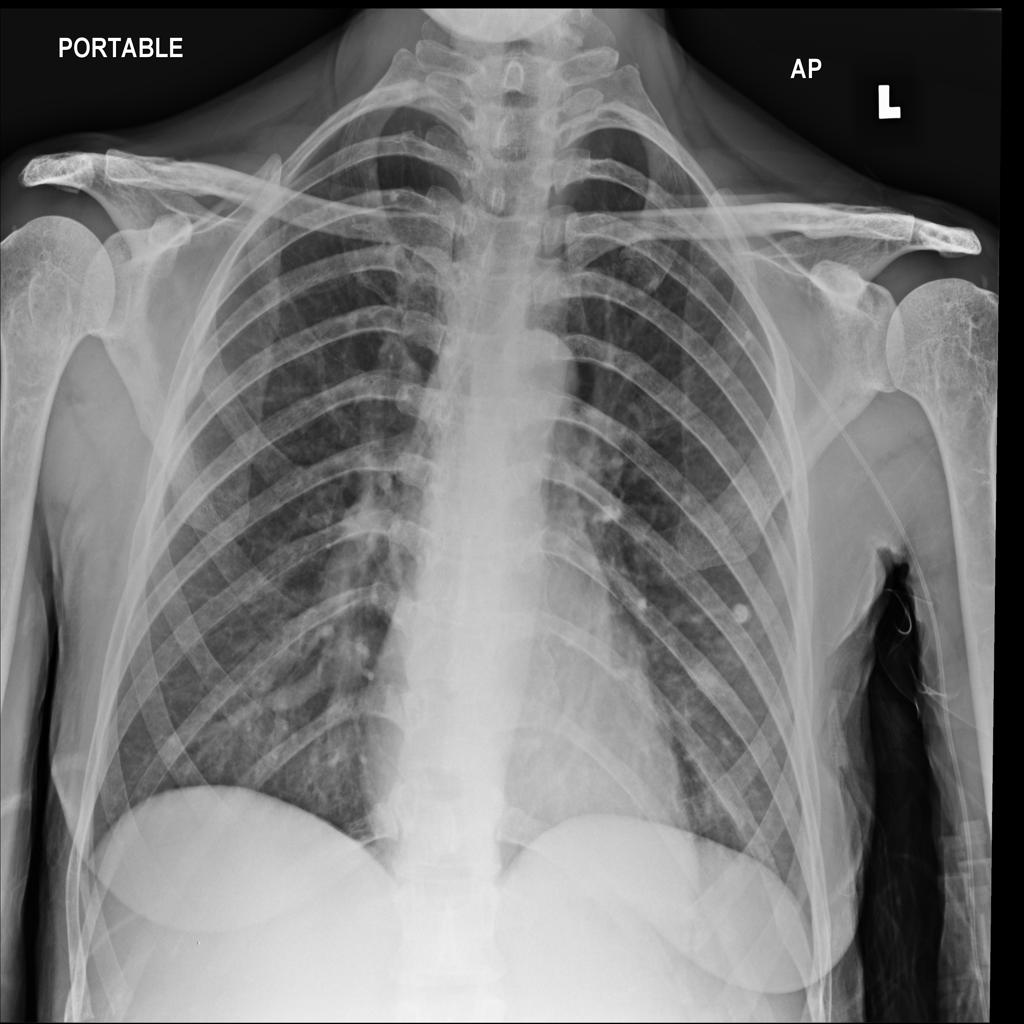nodule: (725, 592, 762, 631)
